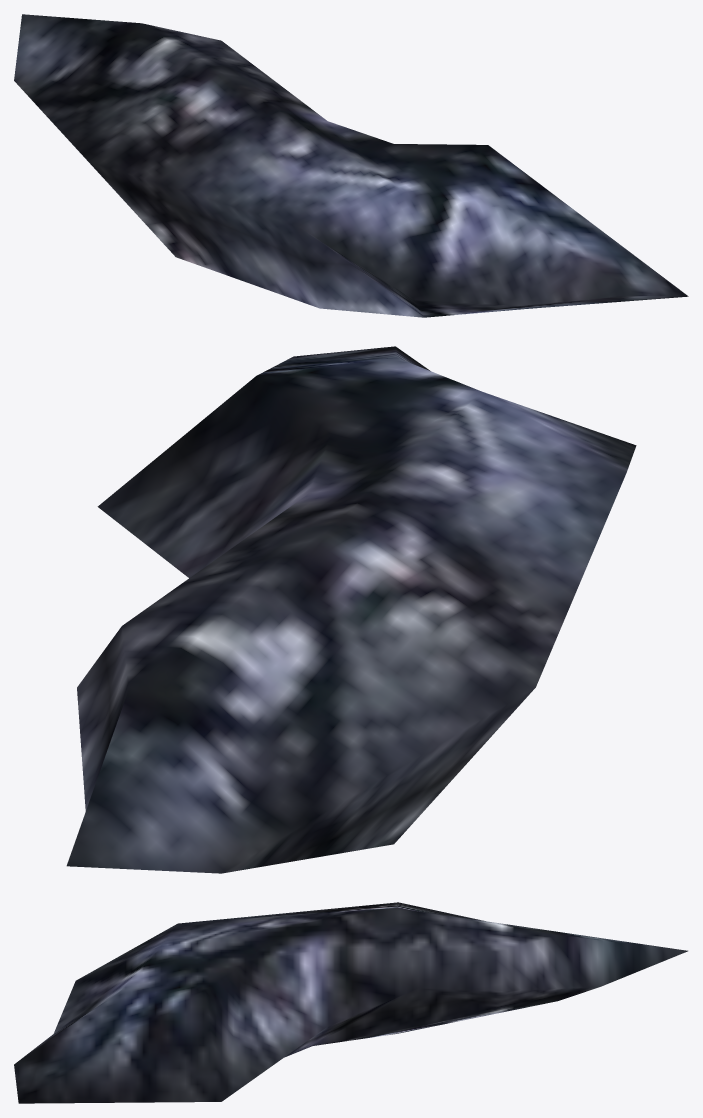
File: nar_condra_7_cone_3.glb
3 views of the same model, one above another, from view 1: azimuth 30°, elevation 25°; view 2: azimuth 150°, elevation 25°; view 3: azimuth 270°, elevation 25° (orthographic). The views are drawn at different scales.
Visible parts, largest first — view 1: model_nar_condra_7_cone_3; view 2: model_nar_condra_7_cone_3; view 3: model_nar_condra_7_cone_3.
Part boxes in pixels (bbox=[...]): model_nar_condra_7_cone_3: bbox=[14, 14, 688, 317]; model_nar_condra_7_cone_3: bbox=[66, 346, 636, 873]; model_nar_condra_7_cone_3: bbox=[14, 902, 687, 1103].
Bounding box in the file's own units: 0.3582 × 0.1584 × 0.6731.
1 material, 1 textured.
